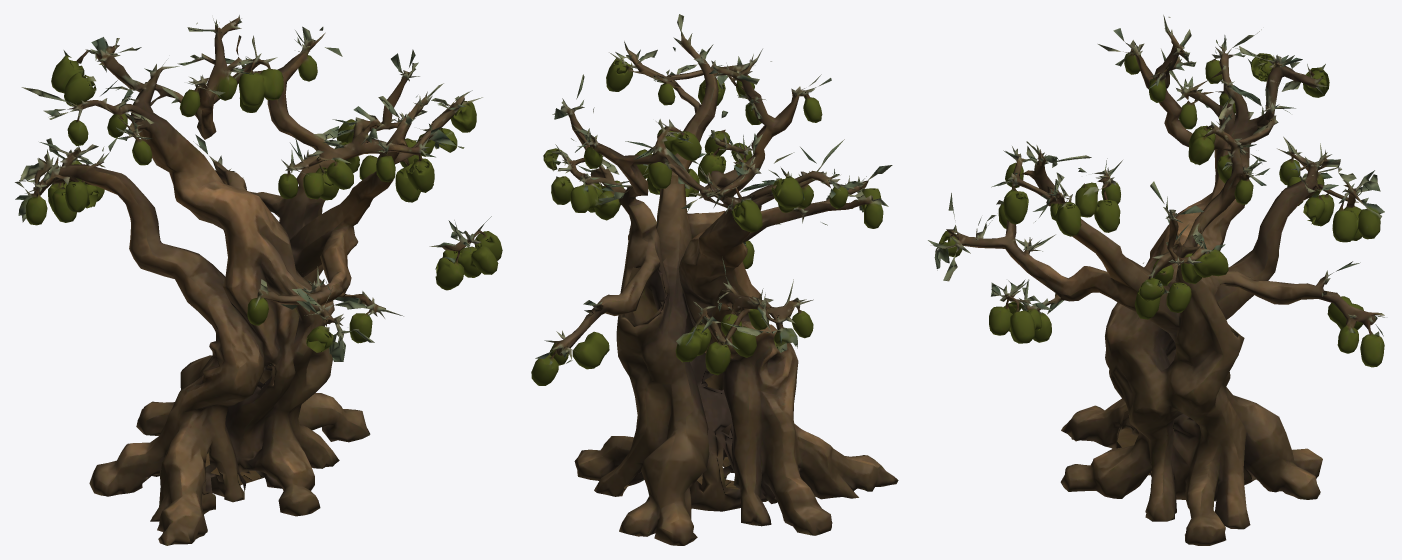
Rendered from olive_tree.glb.
3 renders of one model, left to right at view 1: azimuth 30°, elevation 25°; view 2: azimuth 150°, elevation 25°; view 3: azimuth 270°, elevation 25°, orthographic. The views are drawn at different scales.
Parts seen in each view (by area): view 1: world; view 2: world; view 3: world.
Part boxes in pixels (box(x1,y1,x2,y2)): world: box(15, 15, 502, 545); world: box(531, 14, 898, 545); world: box(928, 15, 1384, 545).
Bounding box in the file's own units: 4.14 × 5 × 4.62.
1 material, 1 textured.
